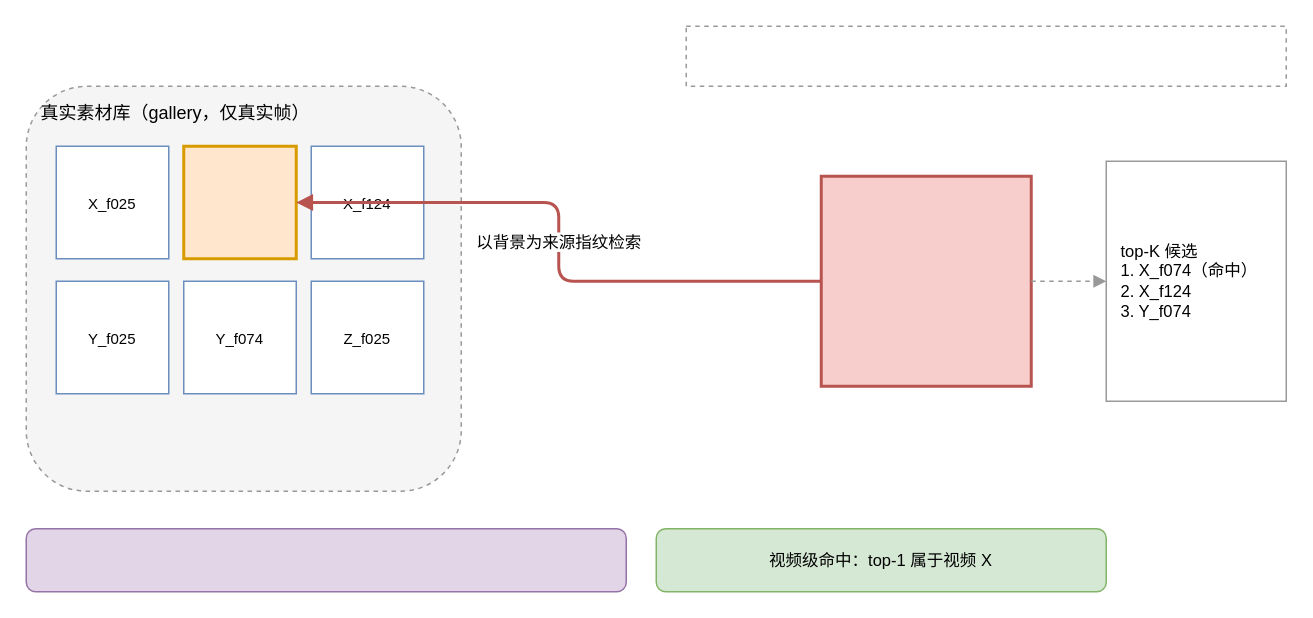
Some shapes in this 1313 by 618 pixel diagram are drawn without their labels. The centre of each missing label's shape, as x and y in pixels:
"X_f074" goes at (x=239, y=202).
"伪造帧 q" goes at (x=925, y=280).
"帧级命中：top-1 的 source_id 精确等于 X_f074" goes at (x=325, y=559).
"训练不使用任何篡改类型标签（无攻击监督）" goes at (x=985, y=55).
